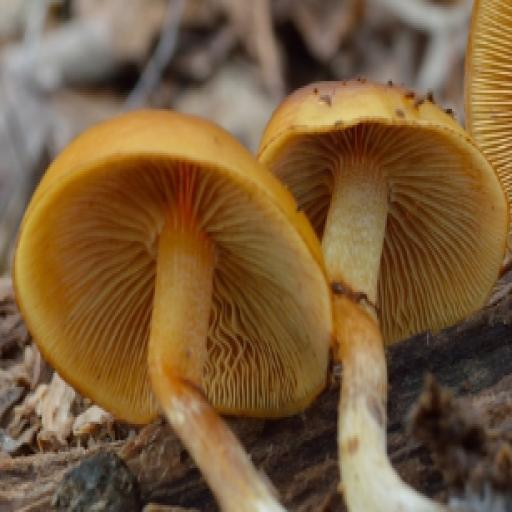mushroom: (14, 66, 512, 453)
